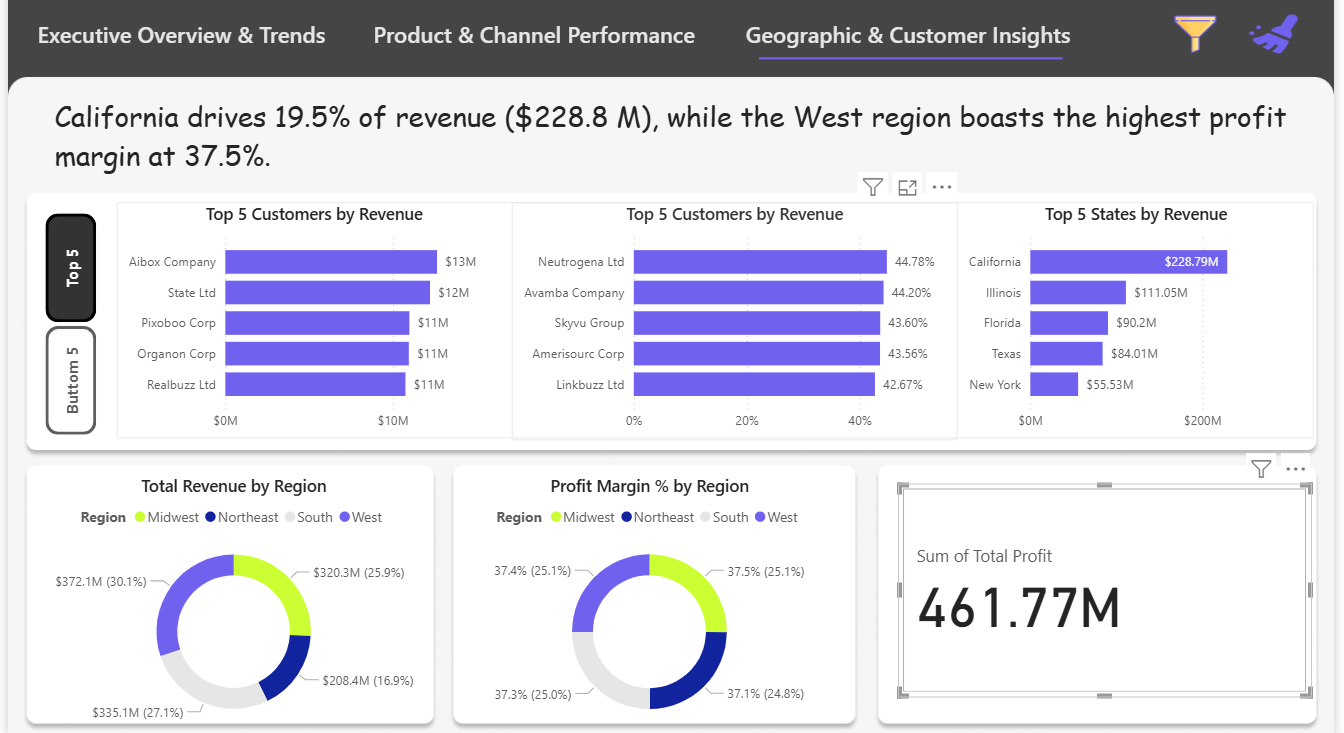

This screenshot's page, from the dashboard's own definition file:
{"tool":"powerbi","page":{"name":"Geographic & Customer Insights","canvas":[1280,720],"ordinal":2},"visuals":[{"type":"barChart","title":"Top 5 States by Revenue","fields":{"Category":["Sales_data.state_name"],"Y":["Measures_.Total Revenue"]},"box":[917,203.4,344.1,228.8],"z":0,"group":"g2"},{"type":"actionButton","box":[37,215,49,105],"z":0,"group":"g1"},{"type":"donutChart","title":"Total Revenue by Region","fields":{"Category":["Sales_data.us_region"],"Y":["Measures_.Total Revenue"]},"box":[20.3,466.1,394.9,254.2],"z":0},{"type":"barChart","title":"Top 5 Customers by Revenue","fields":{"Category":["Sales_data.customer_name"],"Y":["Measures_.Profit Margin %"]},"box":[486.5,203.4,430.5,228.8],"z":1000,"group":"g2"},{"type":"actionButton","box":[36.7,323.3,49,105],"z":1000,"group":"g1"},{"type":"donutChart","title":"Profit Margin % by Region","fields":{"Category":["Sales_data.us_region"],"Y":["Measures_.Profit Margin %"]},"box":[415.3,466.1,408.5,254.2],"z":1000},{"type":"actionButton","box":[337.2,14.1,342.3,55.1],"z":2000},{"type":"barChart","title":"Top 5 Customers by Revenue","fields":{"Category":["Sales_data.customer_name"],"Y":["Measures_.Total Revenue"]},"box":[105.1,203.4,381.4,228.8],"z":2000,"group":"g2"},{"type":"actionButton","box":[9,14.1,317.9,55.1],"z":3000},{"type":"actionButton","box":[702.6,14.1,333.3,55.1],"z":4000},{"type":"group","id":"g1","title":"top 5 button","box":[36.7,215,48.3,213.3],"z":6000},{"type":"group","id":"g2","title":"top 5","box":[105.1,203.4,1155.9,228.8],"z":9000},{"type":"textbox","title":"Top Text","box":[40,96.2,1222.5,120],"z":11000},{"type":"actionButton","box":[1188,14,70,55],"z":12000},{"type":"actionButton","box":[1120,21,53,42],"z":13000},{"type":"cardVisual","fields":{"Data":["Sum(Customer Summary.Total Profit)"]},"box":[859,475.3,399.3,206.3],"z":14001}]}

Visuals, with their boxes on the page's 1280x720 design canvas (x1, y1, x2, y2). These are canvas units, not pixel positions in the 1344x733 screenshot, which may show the page scaled, cropped or inside an application window:
"Top 5 States by Revenue" barChart: Rect(917, 203, 1261, 432)
actionButton: Rect(37, 215, 86, 320)
"Total Revenue by Region" donutChart: Rect(20, 466, 415, 720)
"Top 5 Customers by Revenue" barChart: Rect(486, 203, 917, 432)
actionButton: Rect(37, 323, 86, 428)
"Profit Margin % by Region" donutChart: Rect(415, 466, 824, 720)
actionButton: Rect(337, 14, 680, 69)
"Top 5 Customers by Revenue" barChart: Rect(105, 203, 486, 432)
actionButton: Rect(9, 14, 327, 69)
actionButton: Rect(703, 14, 1036, 69)
"top 5 button" group: Rect(37, 215, 85, 428)
"top 5" group: Rect(105, 203, 1261, 432)
"Top Text" textbox: Rect(40, 96, 1262, 216)
actionButton: Rect(1188, 14, 1258, 69)
actionButton: Rect(1120, 21, 1173, 63)
cardVisual - Sum(Customer Summary.Total Profit): Rect(859, 475, 1258, 682)
